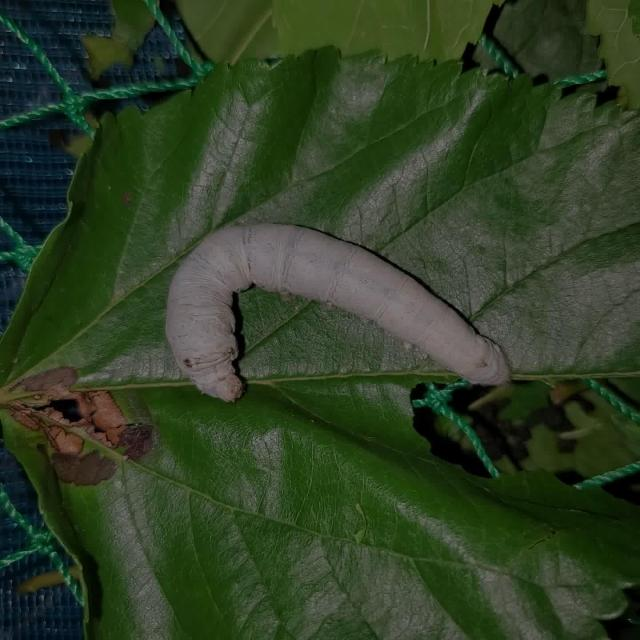Healthy: (133, 188, 544, 428)
